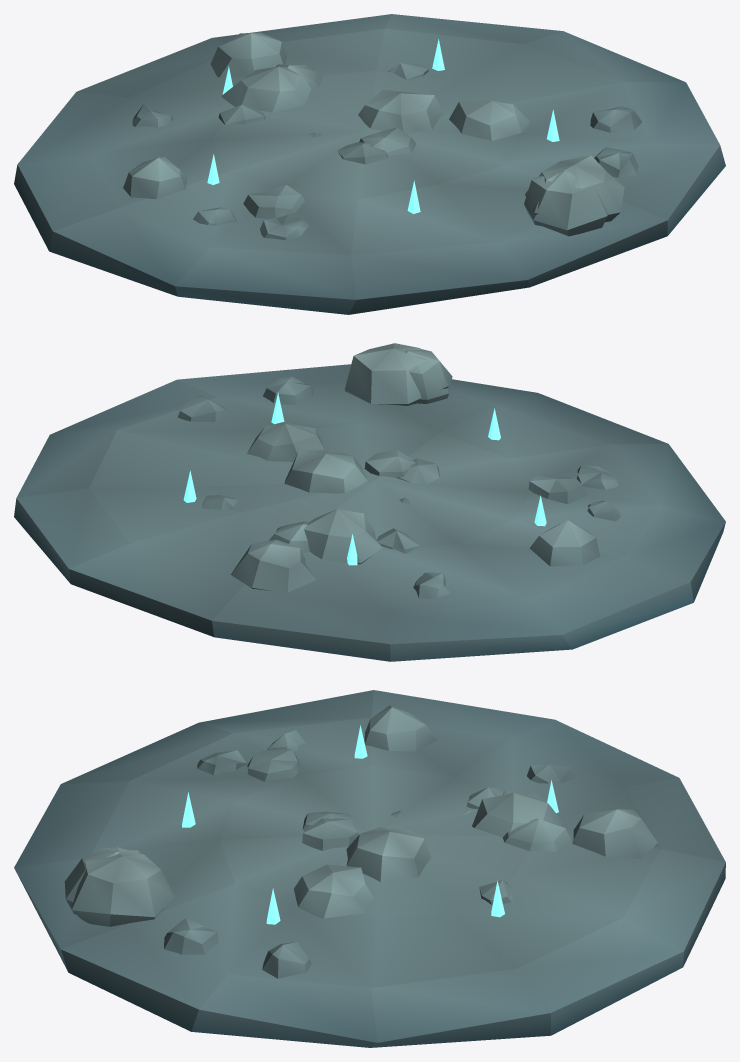
File: prop_nodule_field.glb
The picture shows the model from 3 angles, top to bottom: view 1: azimuth 30°, elevation 25°; view 2: azimuth 150°, elevation 25°; view 3: azimuth 270°, elevation 25°; orthographic projection. The views are drawn at different scales.
Visible parts, largest first — view 1: prop_nodule_field_stone, prop_nodule_field_glow; view 2: prop_nodule_field_stone, prop_nodule_field_glow; view 3: prop_nodule_field_stone, prop_nodule_field_glow.
Boxes of the visible parts, left/top/right/bottom form: prop_nodule_field_stone: left=14, top=14, right=725, bottom=314; prop_nodule_field_glow: left=207, top=39, right=559, bottom=213; prop_nodule_field_stone: left=14, top=343, right=725, bottom=661; prop_nodule_field_glow: left=183, top=392, right=546, bottom=565; prop_nodule_field_stone: left=14, top=690, right=725, bottom=1047; prop_nodule_field_glow: left=182, top=725, right=558, bottom=924.
Size of the model in its own units: 4.71 by 0.6639 by 4.09.
